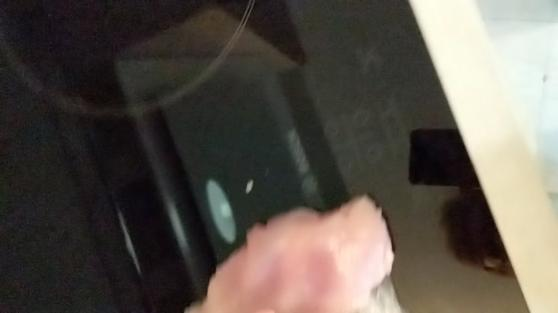chicken_fillet: (200, 199, 411, 313)
